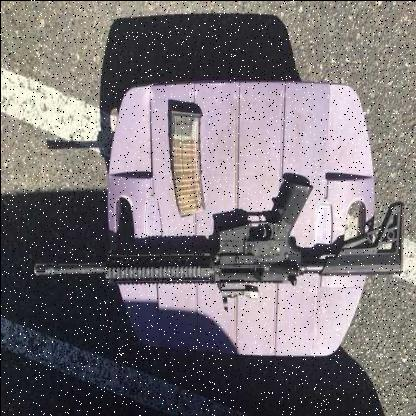rifle: (16, 168, 411, 310)
